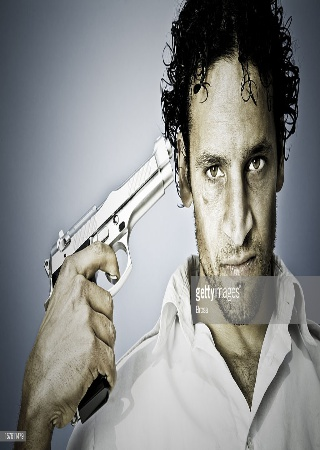handgun: (41, 122, 171, 314)
